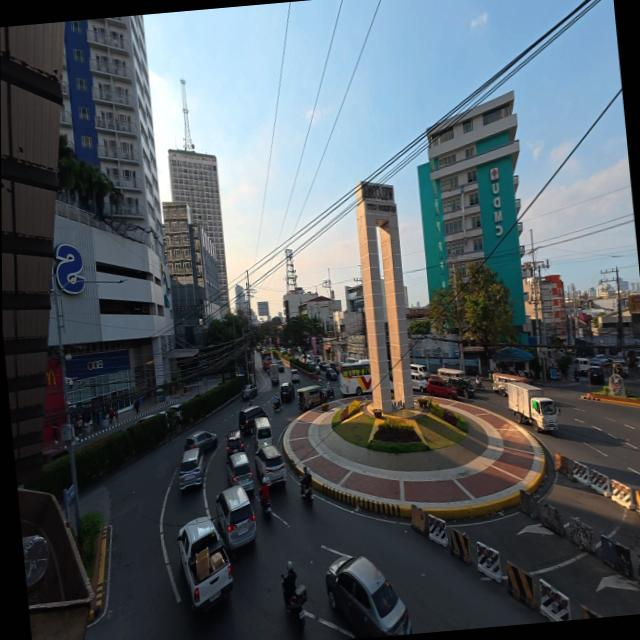Jeepneys: (492, 372, 531, 396), (297, 386, 321, 411)
bus: (338, 360, 370, 395), (261, 351, 271, 370)
car: (325, 557, 411, 637), (216, 486, 256, 551), (254, 445, 286, 484), (178, 448, 204, 490), (226, 453, 254, 491), (426, 377, 457, 399), (183, 431, 217, 451), (447, 377, 474, 398), (41, 446, 69, 465), (225, 430, 243, 456), (135, 412, 165, 424), (166, 404, 181, 424), (279, 383, 294, 402), (589, 367, 604, 385), (241, 384, 257, 400), (613, 361, 627, 377), (325, 368, 337, 381), (290, 369, 299, 382), (318, 361, 328, 372), (329, 363, 340, 372), (277, 360, 284, 372), (281, 348, 286, 354)
motorcycle: (281, 575, 305, 632), (300, 484, 314, 507), (260, 499, 271, 519), (324, 386, 333, 399), (273, 400, 281, 412), (474, 379, 482, 389)
trucks: (177, 518, 232, 613), (505, 383, 557, 431), (269, 364, 278, 385)
vans: (236, 404, 268, 434), (253, 417, 272, 451), (410, 372, 426, 392), (410, 365, 429, 381), (576, 357, 588, 372)
